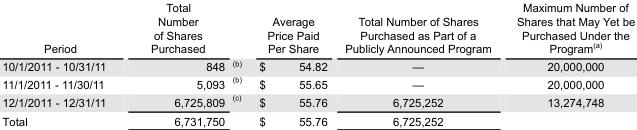table: (1, 1, 634, 126)
table column: (335, 1, 503, 126), (503, 1, 634, 126), (1, 1, 127, 126), (127, 1, 228, 126), (249, 1, 335, 126), (228, 1, 249, 126)
table column header: (1, 1, 634, 73)
table row: (1, 1, 634, 73), (1, 91, 634, 111), (1, 73, 634, 91), (1, 111, 634, 126)
